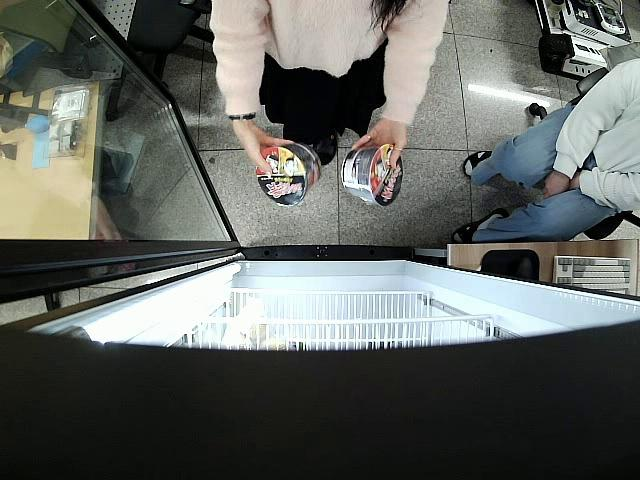00_hand: (241, 125, 294, 180), (351, 127, 409, 169)
07_buldak_L: (341, 143, 404, 207), (256, 145, 321, 207)
